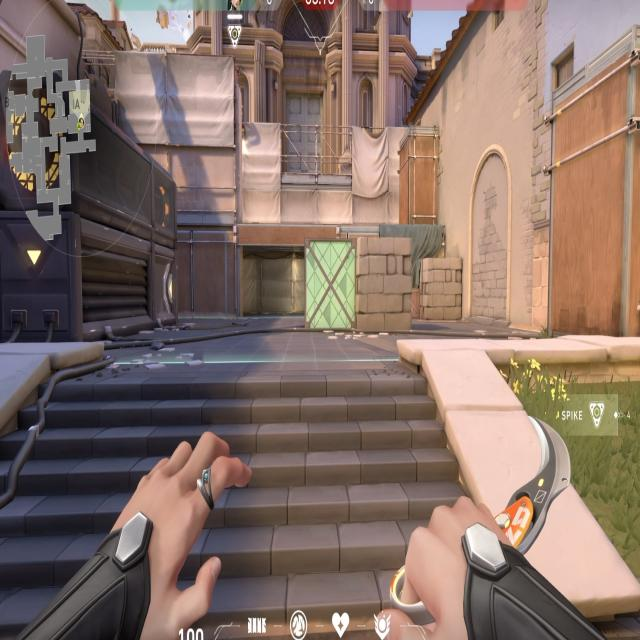A_Heaven_Box: (396, 120, 446, 233)
A_Heaven_Wall: (104, 26, 248, 217)
A_Hell: (228, 217, 309, 319)
A_Site_Box: (303, 230, 417, 341)
